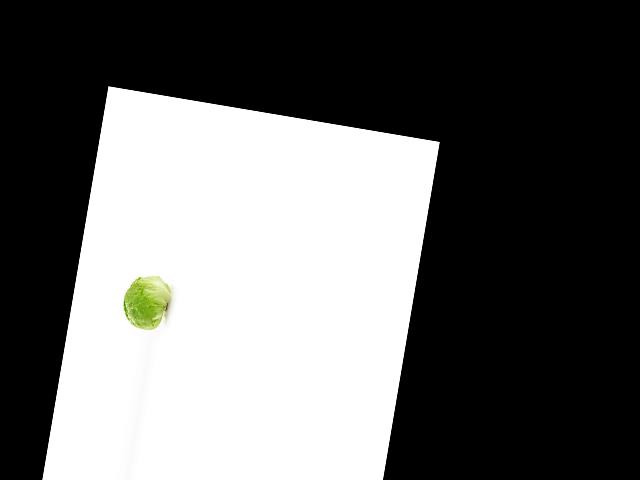lettuce: (116, 270, 170, 339)
